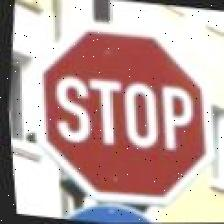Stop: (9, 9, 224, 215)
